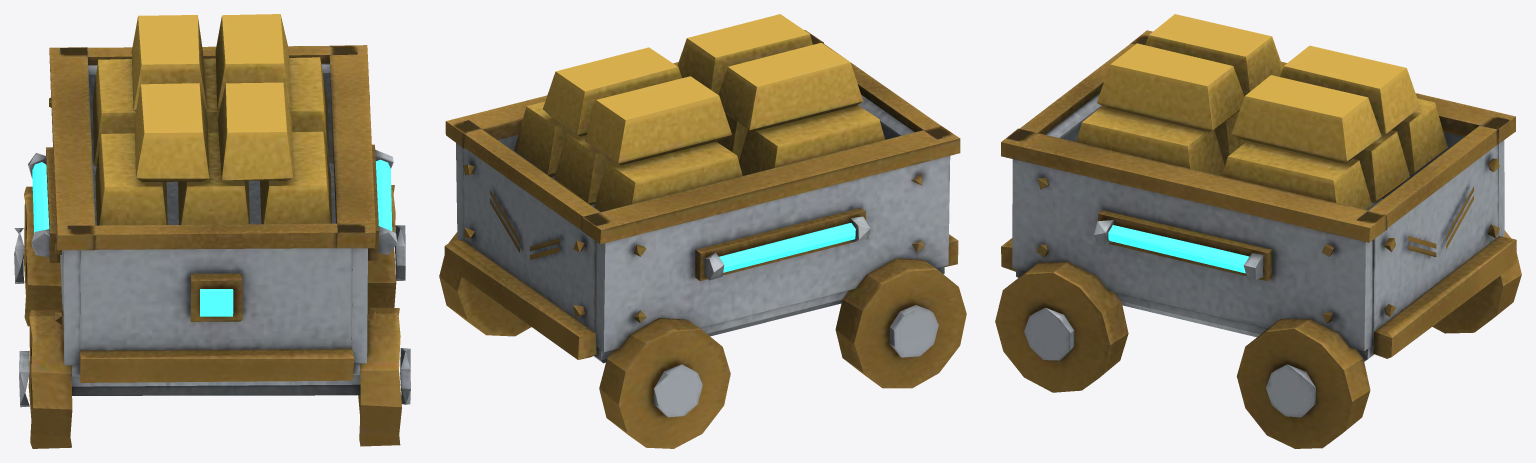
3 renders of one model, left to right at view 1: azimuth 30°, elevation 25°; view 2: azimuth 150°, elevation 25°; view 3: azimuth 270°, elevation 25°, orthographic. The views are drawn at different scales.
Parts seen in each view (by area): view 1: Aged_engraved_brass, Glossy_gold_bullion, Polished_chrome, glow_Cyan_neon_glass; view 2: Aged_engraved_brass, Polished_chrome, Glossy_gold_bullion, glow_Cyan_neon_glass; view 3: Aged_engraved_brass, Polished_chrome, Glossy_gold_bullion, glow_Cyan_neon_glass.
Boxes of the visible parts, x1=… form: Aged_engraved_brass: x1=24, y1=45, x2=401, y2=448; Glossy_gold_bullion: x1=92, y1=14, x2=331, y2=225; Polished_chrome: x1=14, y1=63, x2=410, y2=407; glow_Cyan_neon_glass: x1=32, y1=159, x2=392, y2=316; Aged_engraved_brass: x1=439, y1=30, x2=966, y2=448; Polished_chrome: x1=456, y1=94, x2=950, y2=417; Glossy_gold_bullion: x1=514, y1=14, x2=884, y2=211; glow_Cyan_neon_glass: x1=719, y1=223, x2=855, y2=272; Aged_engraved_brass: x1=995, y1=30, x2=1521, y2=448; Polished_chrome: x1=1012, y1=93, x2=1504, y2=417; Glossy_gold_bullion: x1=1076, y1=14, x2=1447, y2=209; glow_Cyan_neon_glass: x1=1108, y1=225, x2=1249, y2=273.
Size of the model in its own units: 0.9352 by 0.5961 by 0.9788.
4 materials, 3 textured.
